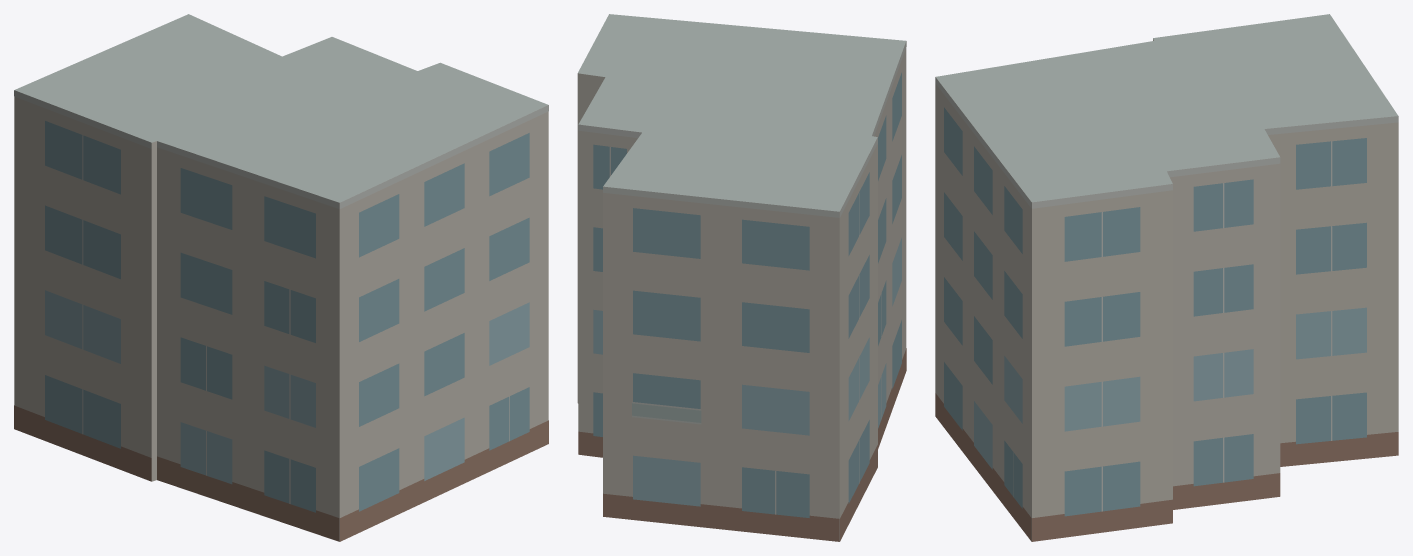
The model's file is survey-upis-32510543.glb.
3 views of the same model, side by side, from view 1: azimuth 30°, elevation 25°; view 2: azimuth 150°, elevation 25°; view 3: azimuth 270°, elevation 25° (orthographic). The views are drawn at different scales.
Visible parts, largest first — view 1: survey-upis-32510543.tmp; view 2: survey-upis-32510543.tmp; view 3: survey-upis-32510543.tmp.
Boxes of the visible parts, x1=… form: survey-upis-32510543.tmp: x1=14, y1=14, x2=548, y2=541; survey-upis-32510543.tmp: x1=577, y1=14, x2=906, y2=541; survey-upis-32510543.tmp: x1=935, y1=14, x2=1398, y2=541.
Size of the model in its own units: 15.49 by 13 by 16.09.
